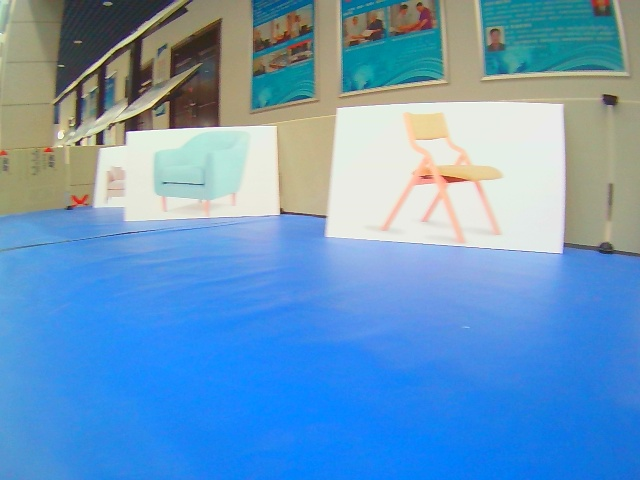sofa: (123, 127, 283, 220)
table: (323, 100, 569, 255)
